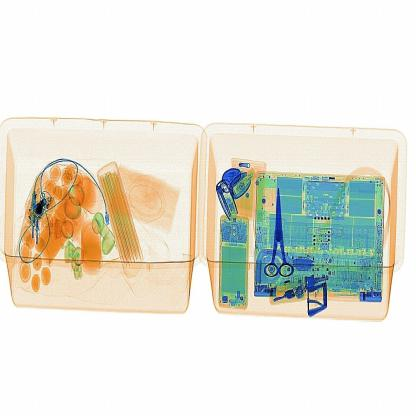gun: (261, 166, 298, 294)
